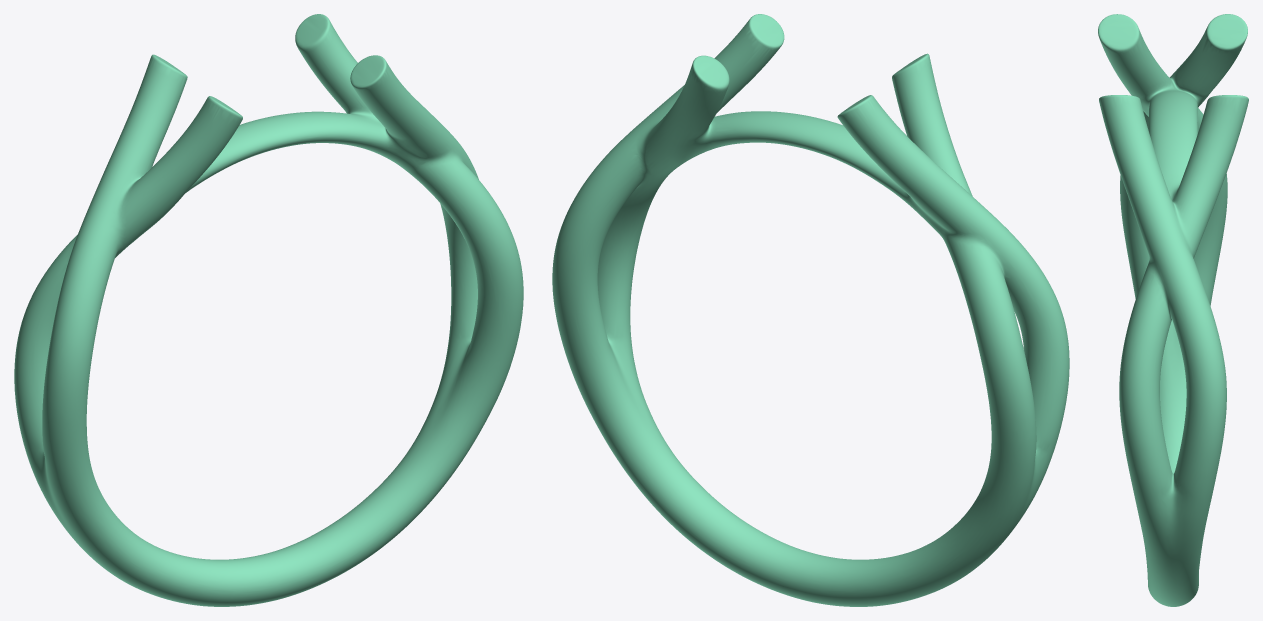
3 views of the same model, side by side, from view 1: azimuth 30°, elevation 25°; view 2: azimuth 150°, elevation 25°; view 3: azimuth 270°, elevation 25° (orthographic). The views are drawn at different scales.
Visible parts, largest first — view 1: Metal02; view 2: Metal02; view 3: Metal02.
Boxes of the visible parts, x1,y1,x2,y2 form: Metal02: (14, 14, 523, 606); Metal02: (552, 14, 1069, 606); Metal02: (1098, 14, 1248, 606).
Bounding box in the file's own units: 21.12 × 22.81 × 5.91.
